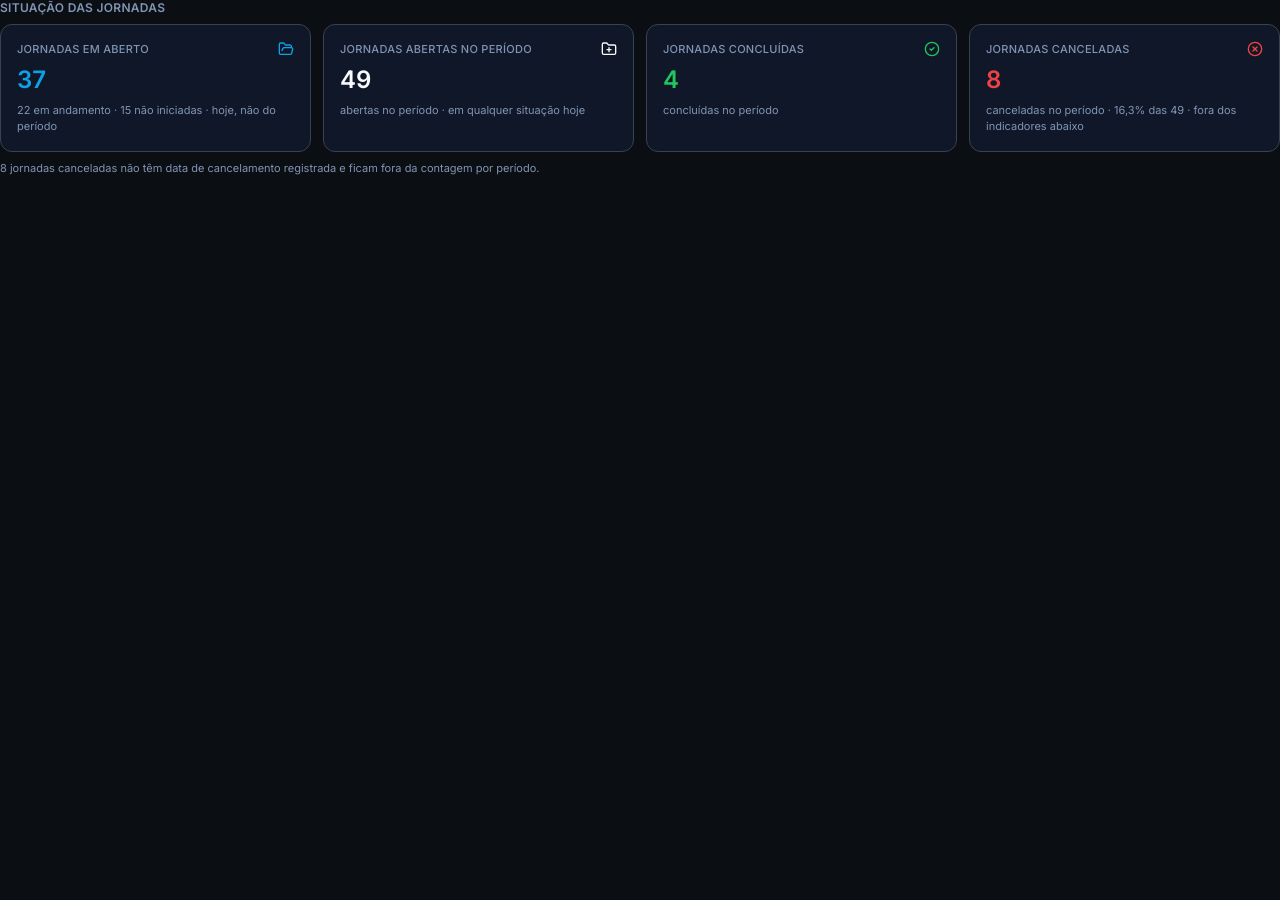
SituacaoAgoraBand › drill-down › clicar no cartão abre o painel com os clientes daquele número
Click the button that starts with "Jornadas em aberto" at (83, 49), box [0,24,311,152]
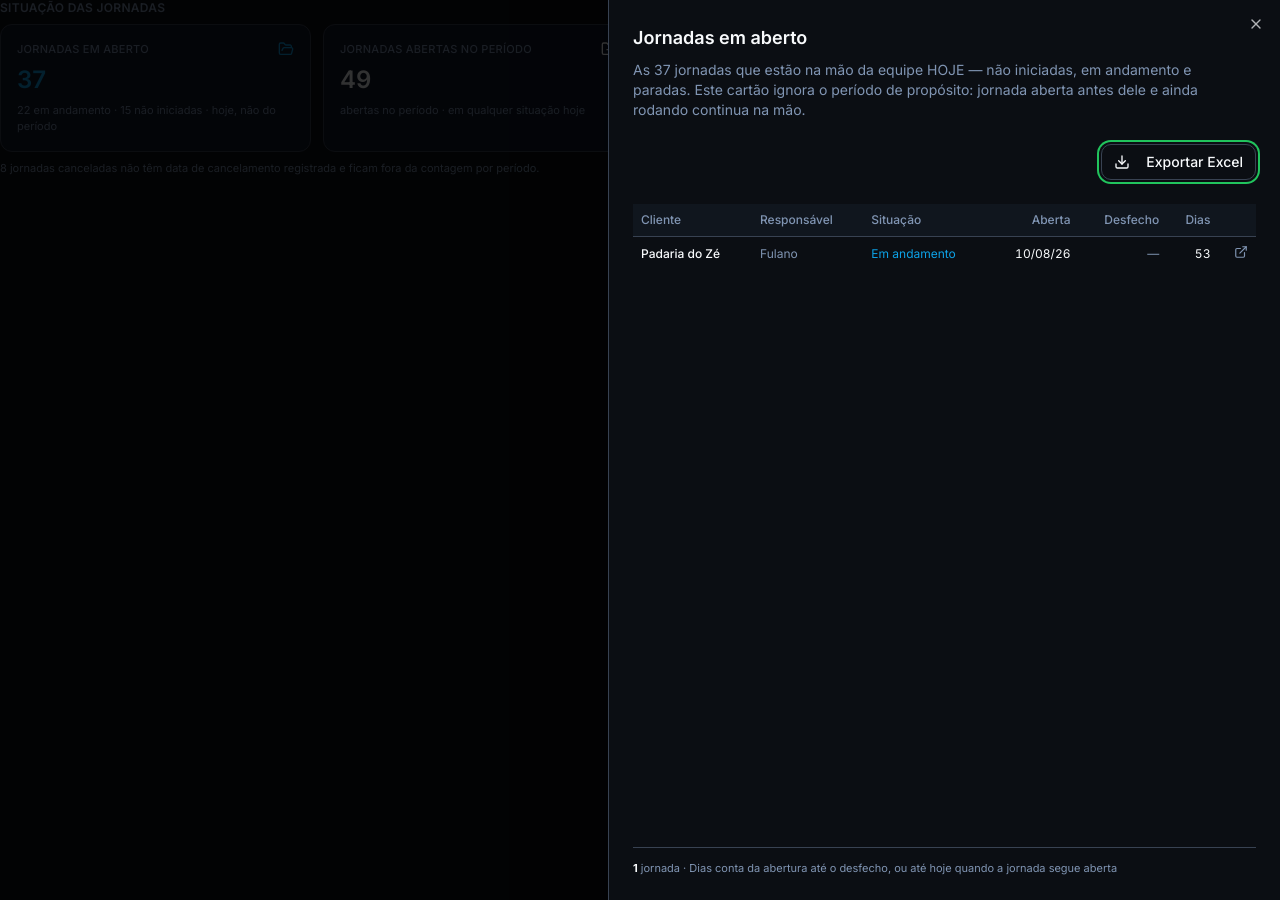
Now the text "Padaria do Zé" is shown, box [633,236,752,271]
